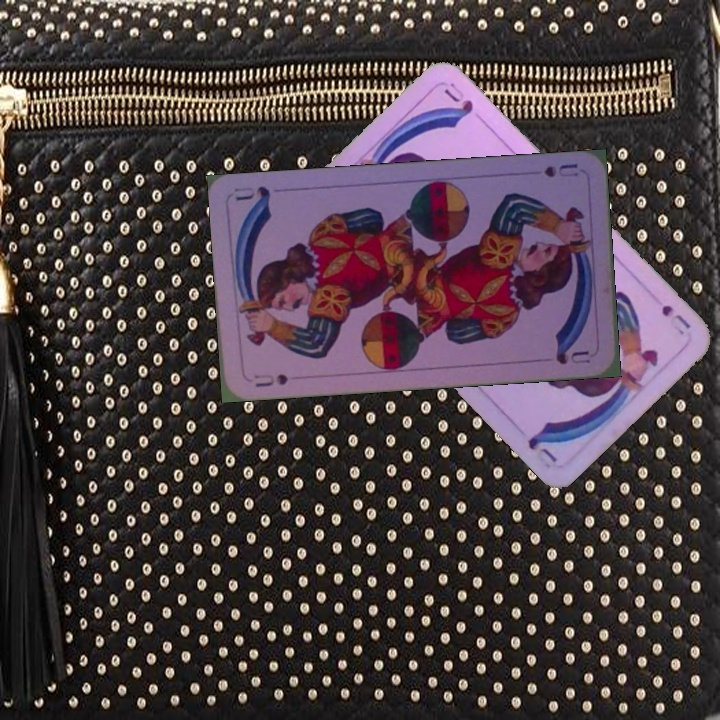SU: (657, 301, 693, 338), (540, 159, 581, 180), (250, 369, 291, 390)
